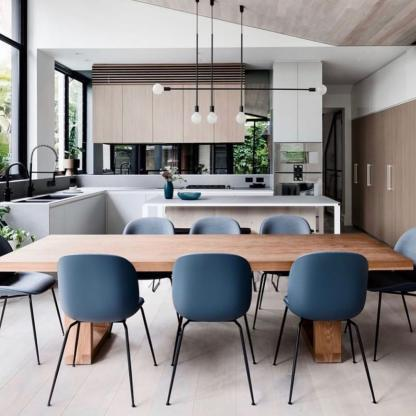lampu: (273, 254, 385, 407), (45, 255, 150, 408), (166, 251, 259, 405)
meja: (3, 234, 410, 345), (144, 194, 346, 221)
